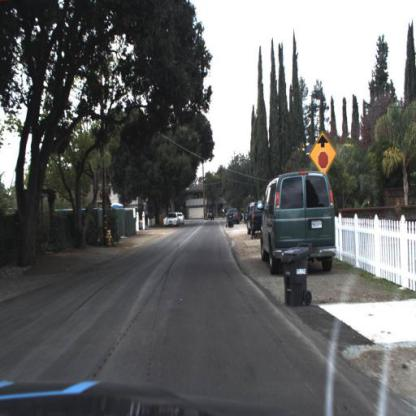car: (257, 172, 341, 273), (245, 199, 266, 239), (228, 207, 243, 226), (165, 214, 181, 228), (204, 207, 216, 223), (179, 212, 187, 226)
